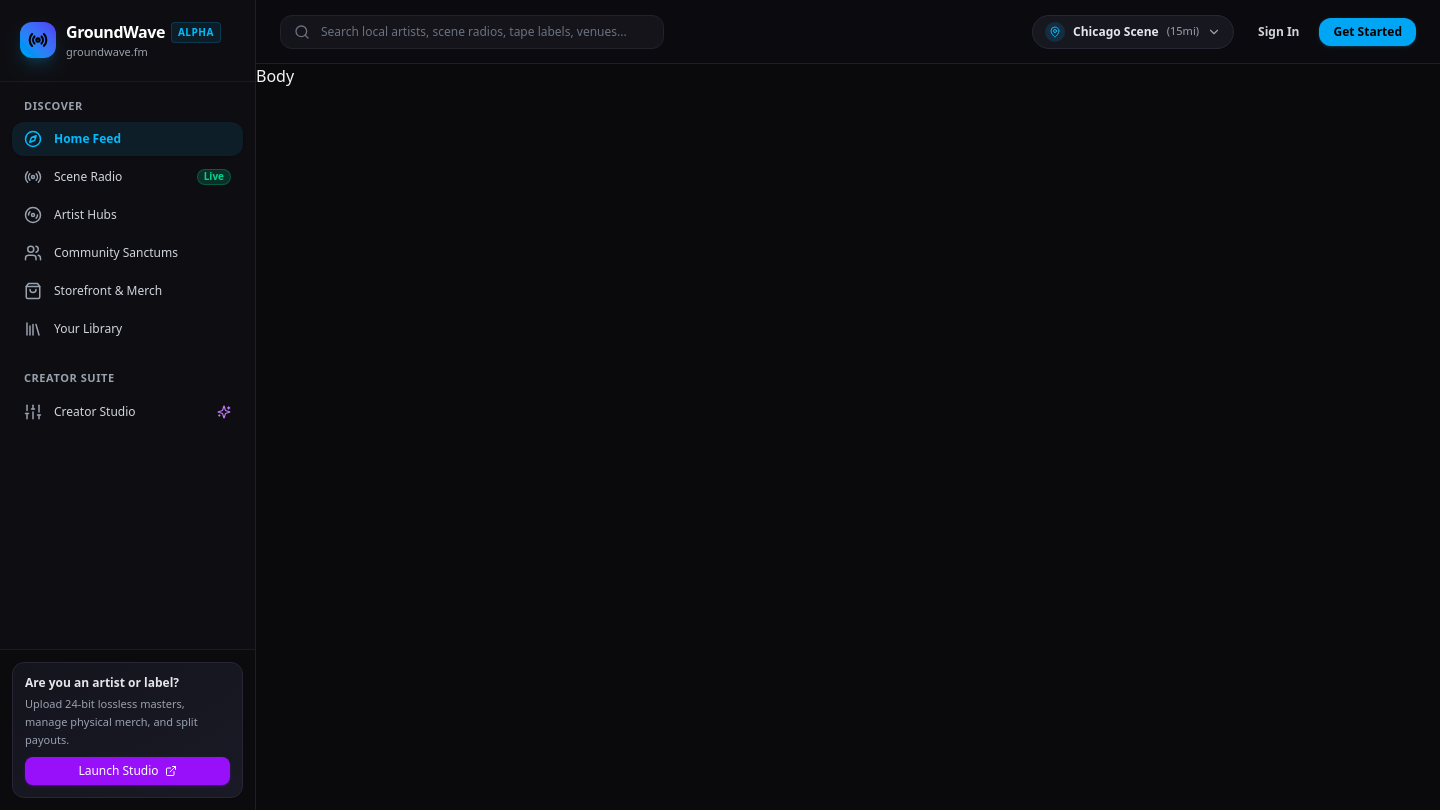
Scenario: AppShell & Layout Components › opens auth modal when clicking Sign In
Click the button "Sign In": (1279, 32) [1246,18,1311,46]
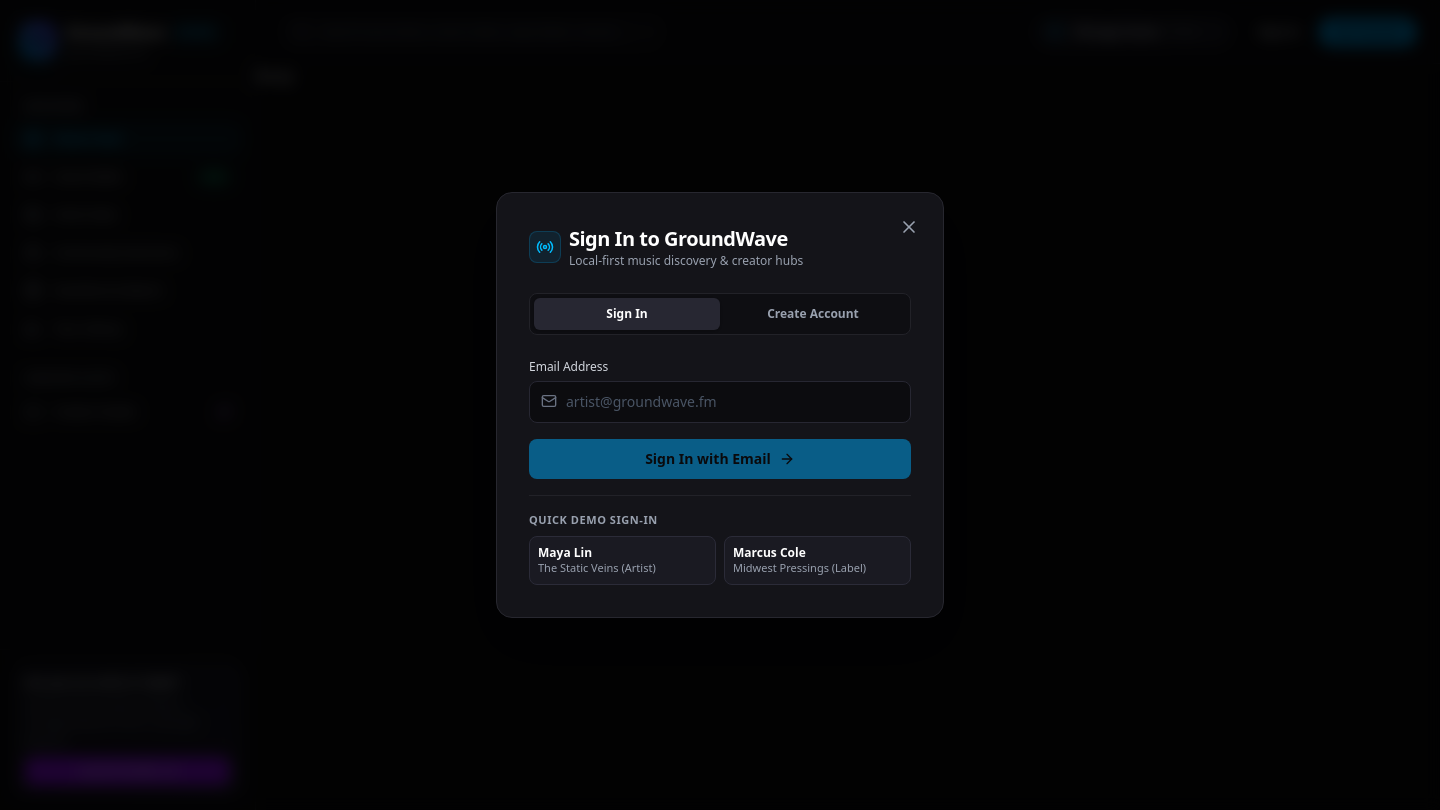
Check: the dialog is shown
Check: the heading "Sign In to GroundWave" is shown, box [569,225,803,253]
